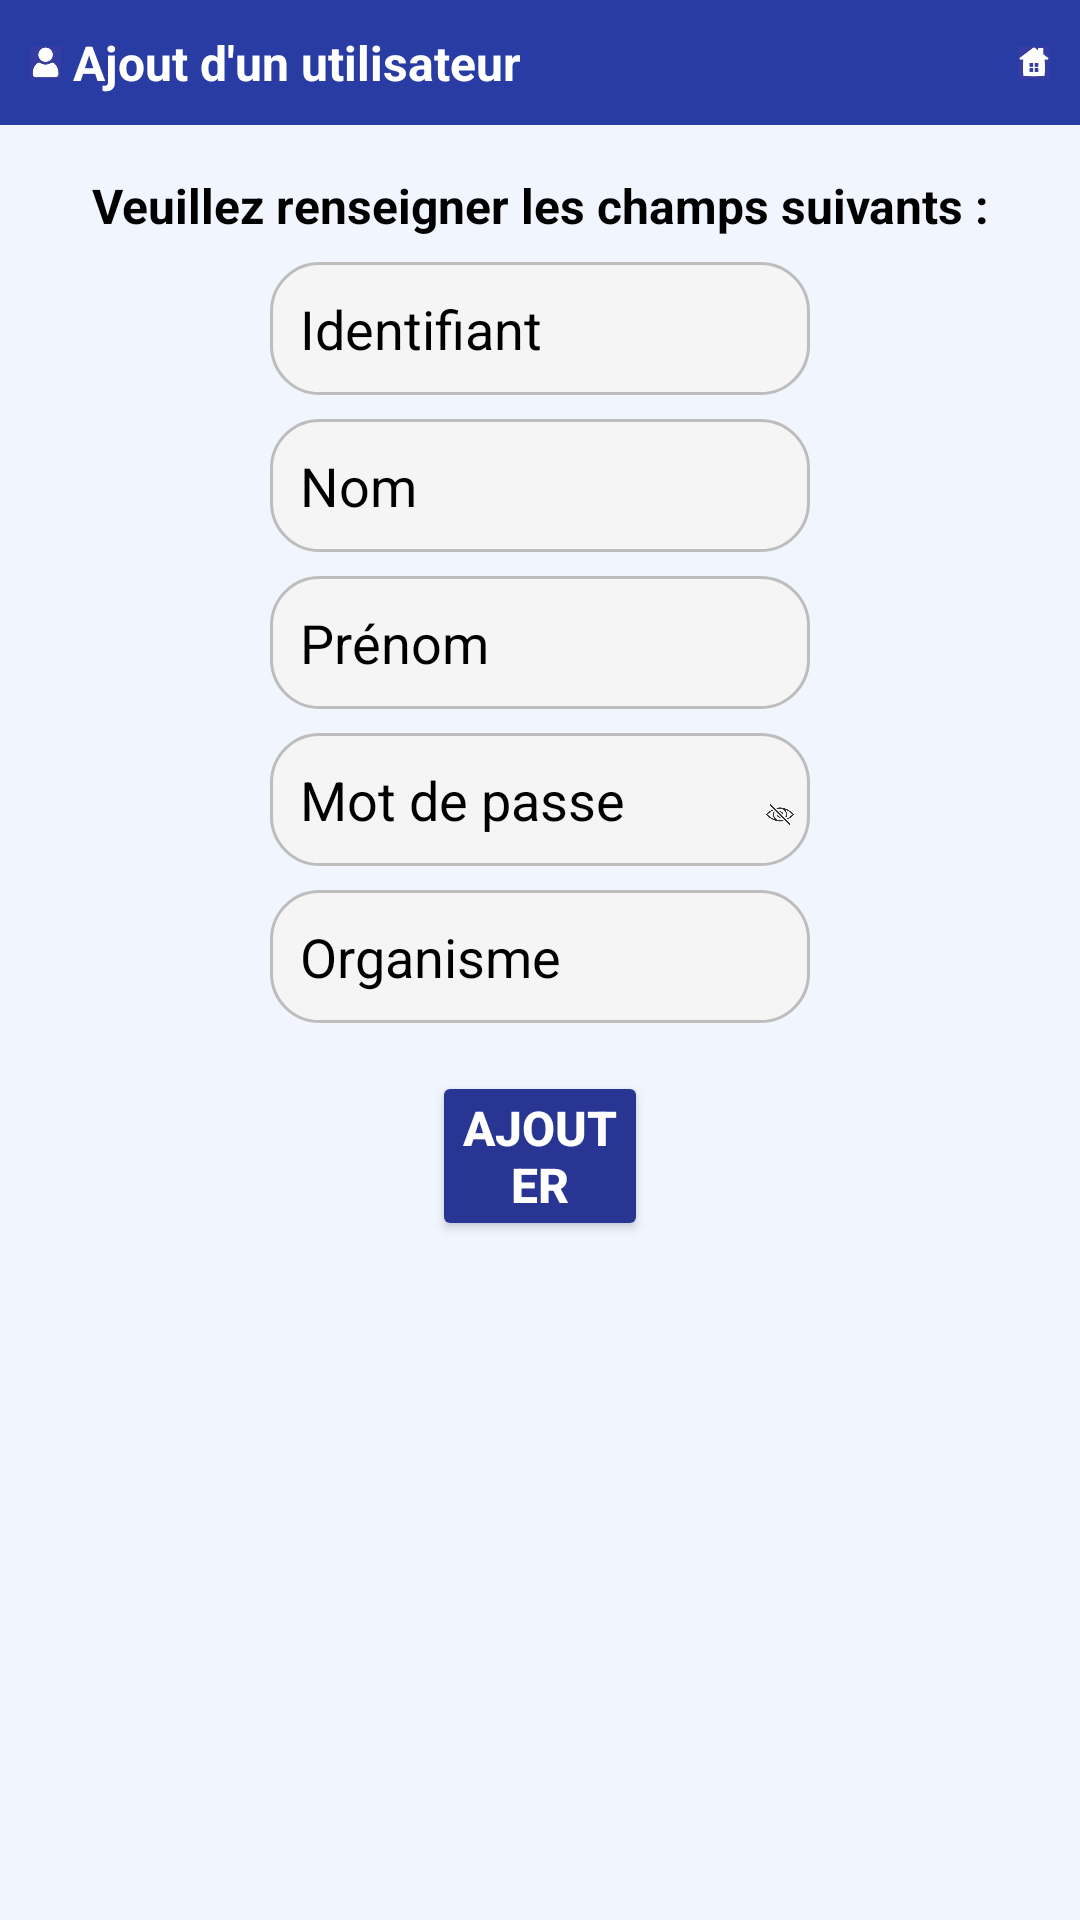

Locate icon controls on the screen. Image size 1080px×1920px, boxes as (x1, y1, x2, y2).
home: (1019, 47, 1049, 77)
user: (32, 47, 59, 78)
